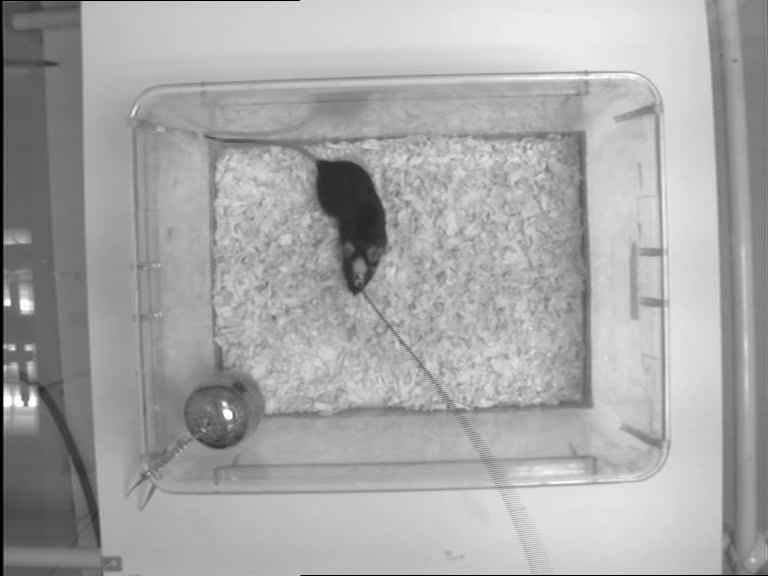mice: (202, 135, 392, 298)
